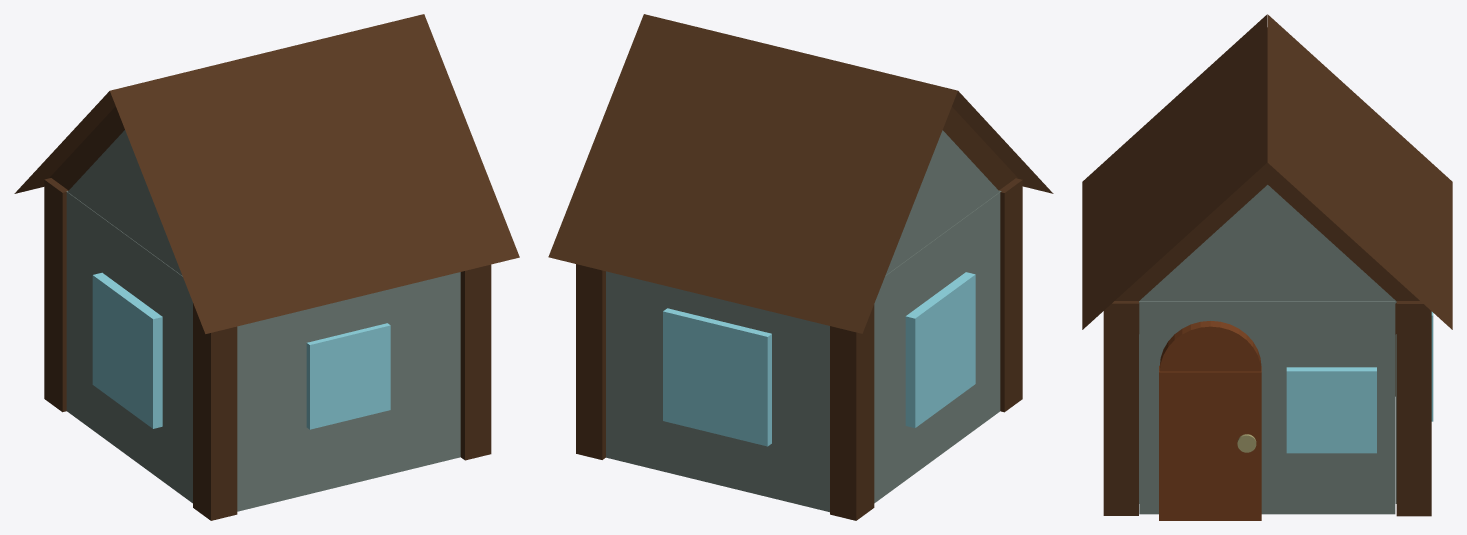
Rendered from house.glb.
3 renders of one model, left to right at view 1: azimuth 30°, elevation 25°; view 2: azimuth 150°, elevation 25°; view 3: azimuth 270°, elevation 25°, orthographic. The views are drawn at different scales.
Parts seen in each view (by area): view 1: Plane, Cube.006, Cube.005, Cube, Cube.011, Cube.009, Plane.005, Cube.003, Cube.001, Plane.003, Plane.001; view 2: Plane.001, Cube.007, Cube.005, Cube.010, Cube.001, Cube.011, Plane.005, Cube.002, Cube, Plane.003, Plane; view 3: Cube.004, Plane, Plane.001, Plane.004, Cube.008, Cube.012, Cube.002, Cube.003, Plane.002, Cylinder.001.
Part boxes in pixels (<box>): Plane: <box>110,14,519,333</box>; Cube.006: <box>237,272,460,511</box>; Cube.005: <box>66,191,192,503</box>; Cube: <box>193,303,237,520</box>; Cube.011: <box>92,272,162,428</box>; Cube.009: <box>306,323,390,429</box>; Plane.005: <box>68,130,182,275</box>; Cube.003: <box>460,264,491,460</box>; Cube.001: <box>44,178,68,412</box>; Plane.003: <box>50,106,124,190</box>; Plane.001: <box>14,91,115,193</box>; Plane.001: <box>548,14,957,333</box>; Cube.007: <box>606,271,829,512</box>; Cube.005: <box>874,190,1001,503</box>; Cube.010: <box>663,308,771,446</box>; Cube.001: <box>830,304,874,520</box>; Cube.011: <box>905,272,975,427</box>; Plane.005: <box>885,130,999,275</box>; Cube.002: <box>576,264,605,459</box>; Cube: <box>999,178,1022,412</box>; Plane.003: <box>942,107,1017,190</box>; Plane: <box>952,91,1053,193</box>; Cube.004: <box>1139,301,1395,514</box>; Plane: <box>1082,14,1267,329</box>; Plane.001: <box>1267,14,1452,329</box>; Plane.004: <box>1139,185,1396,303</box>; Cube.008: <box>1159,366,1261,520</box>; Cube.012: <box>1286,367,1376,453</box>; Cube.002: <box>1396,301,1431,516</box>; Cube.003: <box>1103,301,1138,515</box>; Plane.002: <box>1115,153,1419,334</box>; Cylinder.001: <box>1159,321,1261,371</box>.
Bounding box in the file's own units: 6 × 6.82 × 6.32.
